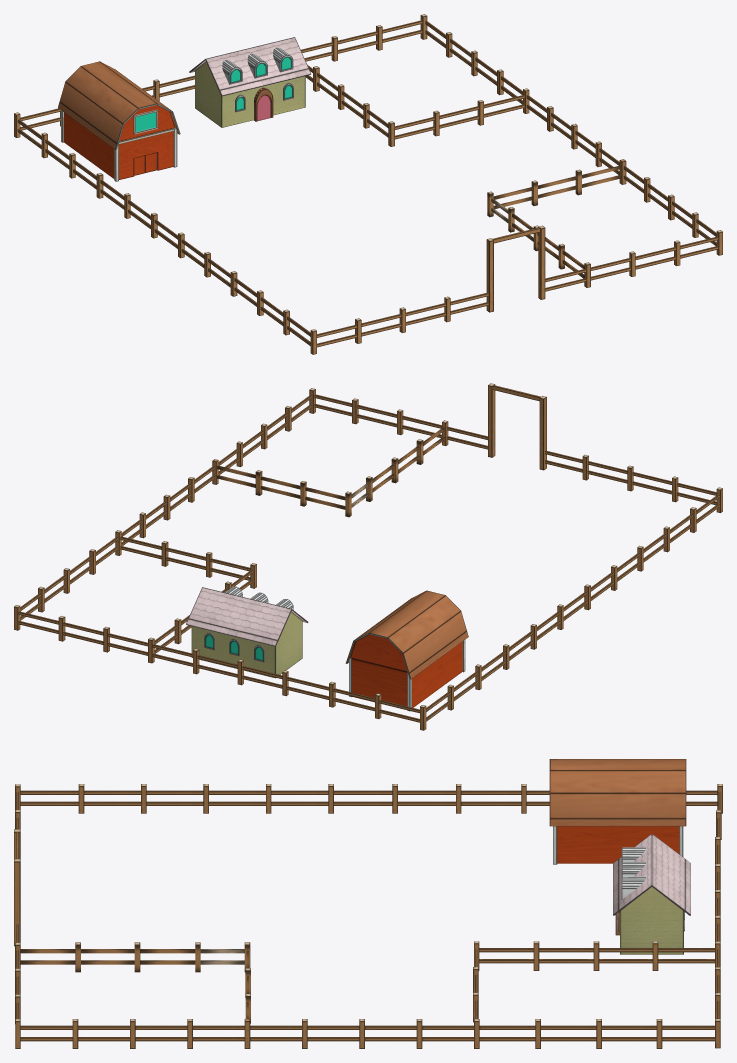
3 views of the same model, one above another, from view 1: azimuth 30°, elevation 25°; view 2: azimuth 150°, elevation 25°; view 3: azimuth 270°, elevation 25° (orthographic). The views are drawn at different scales.
Parts seen in each view (by area): view 1: Farm3; view 2: Farm3; view 3: Farm3.
Part boxes in pixels (<box>): Farm3: <box>14,14,722,354</box>; Farm3: <box>14,383,722,730</box>; Farm3: <box>14,759,722,1048</box>.
Size of the model in its own units: 711 by 118 by 896.
